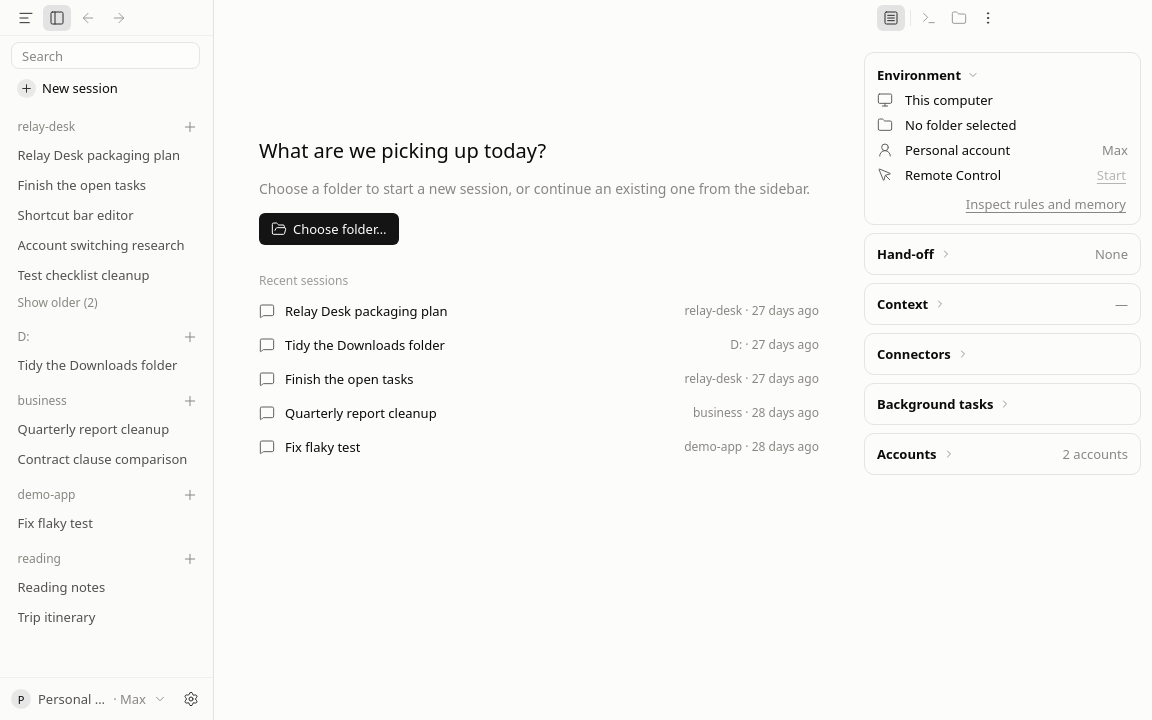
it: app shell › back returns to the previous view
What coordinates should you click on to do the following:
click the button "Fix flaky test"
I would click on:
 (106, 523)
Its box is [7,509,206,537].
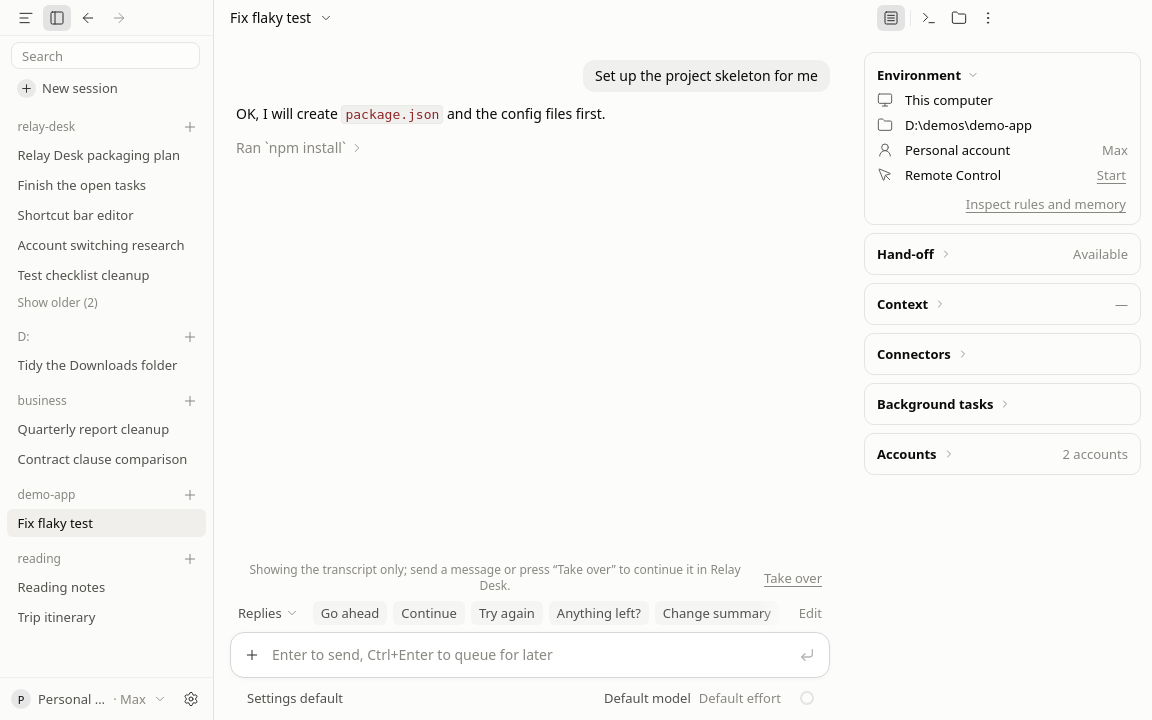
Result: the text "Ran `npm install`" is shown at [236,138,346,158]
What coordinates should you click on to do the following:
click the button named "Back"
I would click on:
 (88, 18)
Its box is [74,4,102,30].
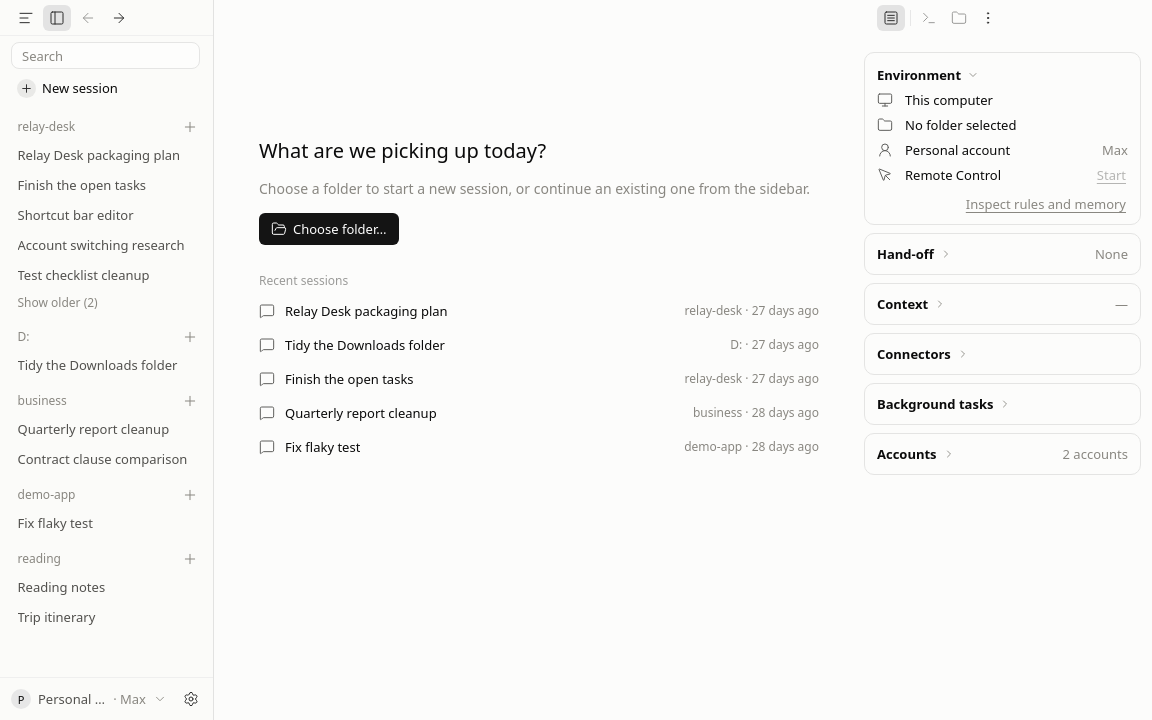
Result: the heading "What are we picking up today?" is shown at [259,137,546,164]
